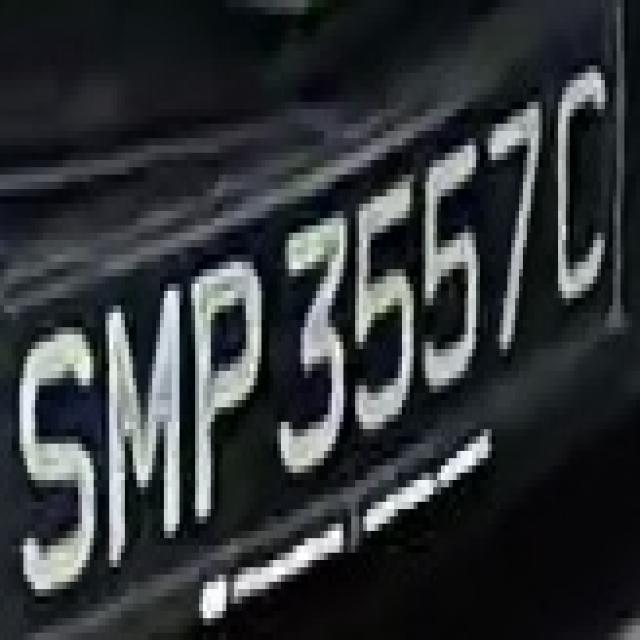3: (273, 196, 347, 509)
5: (355, 153, 429, 451), (418, 94, 476, 414)
7: (457, 94, 542, 363)
C: (546, 29, 616, 327)
M: (98, 269, 195, 589)
P: (180, 248, 270, 546)
S: (12, 284, 105, 626)
